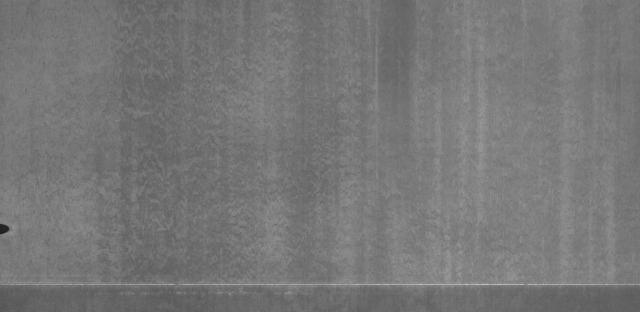punching_hole: (1, 223, 16, 239)
silk_spot: (50, 5, 624, 267)
welding_line: (0, 272, 640, 294)
